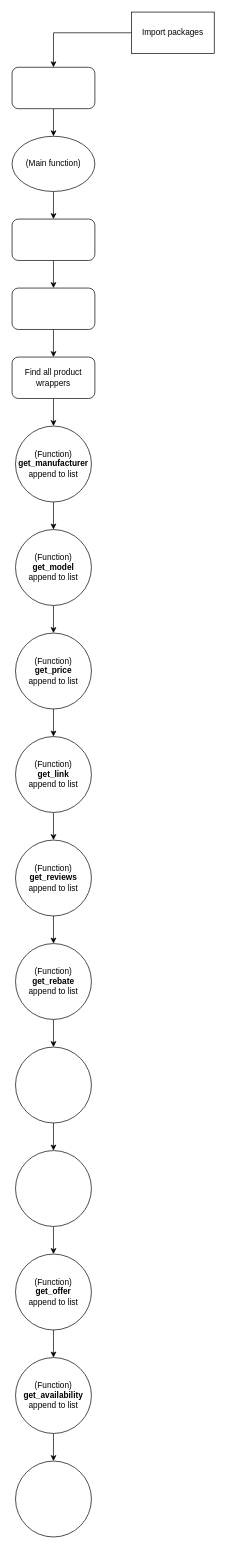
This 226x1549 diagram has some shape labels left out. Here are the shapes that lost their labels. From the top down, the box of each, then its label:
(11, 67, 95, 109): create list variables
(11, 218, 95, 260): Request page data
(11, 287, 95, 329): Create file, write content
(15, 1046, 91, 1123): (Function) get_image append to list
(15, 1150, 91, 1226): (Function) get_sku append to list
(15, 1460, 91, 1537): (Function) get_stars append to list
